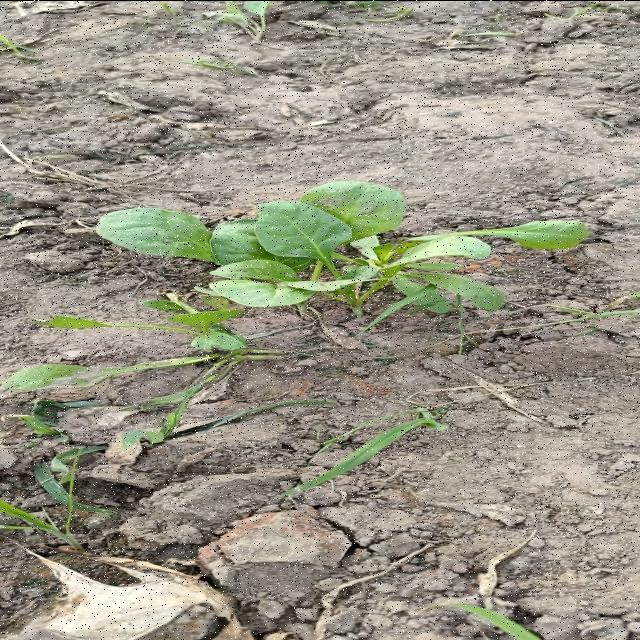plant: (93, 180, 587, 312)
